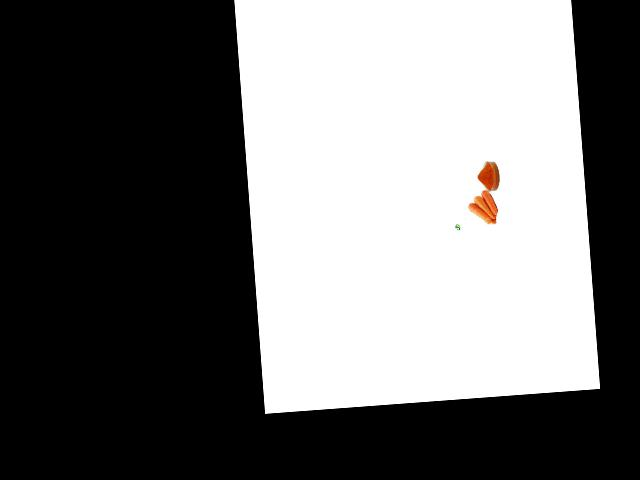carrot: (481, 189, 500, 217)
